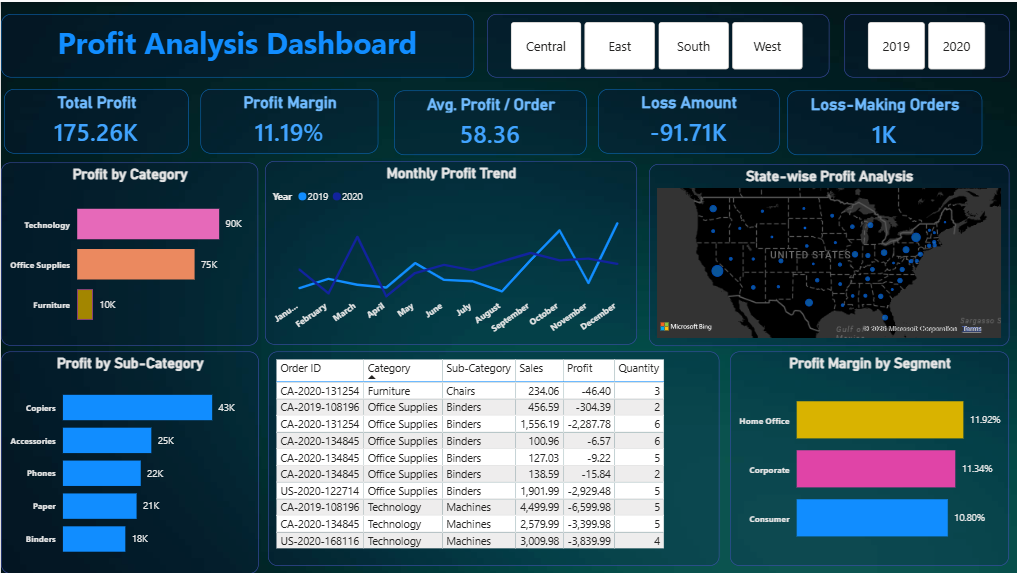

Layout of this report page (visuals, bound fields, positions):
{"tool":"powerbi","page":{"name":"Page 2","canvas":[1280,720],"ordinal":1},"visuals":[{"type":"barChart","fields":{"Y":["Sum(SuperStore_Sales_Dataset.Profit)"],"Category":["SuperStore_Sales_Dataset.Category"]},"box":[0,202.1,324.2,230.5],"z":0},{"type":"barChart","fields":{"Y":["Sum(SuperStore_Sales_Dataset.Profit)"],"Category":["SuperStore_Sales_Dataset.Sub-Category"]},"box":[0,440.6,324.5,279.9],"z":1000},{"type":"barChart","fields":{"Y":["SuperStore_Sales_Dataset.New_ProfitMargin"],"Category":["SuperStore_Sales_Dataset.Segment"]},"box":[918.4,440.3,351.5,270.2],"z":2000},{"type":"lineChart","title":"Monthly Profit Trend","fields":{"Category":["SuperStore_Sales_Dataset.Order Date.Variation.Date Hierarchy.Month"],"Y":["SuperStore_Sales_Dataset.Total_Profit"],"Series":["SuperStore_Sales_Dataset.Order Date.Variation.Date Hierarchy.Year"]},"box":[332.6,201.1,468.4,231.6],"z":3000},{"type":"cardVisual","title":"Loss Amount","fields":{"Data":["SuperStore_Sales_Dataset.Loss Amount"]},"box":[751.4,110,228.6,81.4],"z":4000},{"type":"cardVisual","title":"Loss-Making Orders","fields":{"Data":["SuperStore_Sales_Dataset.Loss_making_orders"]},"box":[990,111.4,245.7,81.4],"z":5000},{"type":"tableEx","title":"Loss-Making Orders","fields":{"Values":["SuperStore_Sales_Dataset.Order ID","SuperStore_Sales_Dataset.Category","SuperStore_Sales_Dataset.Sub-Category","SuperStore_Sales_Dataset.Sales","SuperStore_Sales_Dataset.Profit","SuperStore_Sales_Dataset.Quantity"]},"box":[336.4,440.3,568.8,270.2],"z":6000},{"type":"cardVisual","title":"Profit Margin","fields":{"Data":["SuperStore_Sales_Dataset.ProfitMargin"]},"box":[251.4,110,224.3,81.4],"z":7000},{"type":"cardVisual","title":"Total Profit","fields":{"Data":["SuperStore_Sales_Dataset.Total_Profit"]},"box":[4.3,110,232.9,81.4],"z":8000},{"type":"cardVisual","title":"Avg. Profit / Order","fields":{"Data":["SuperStore_Sales_Dataset.Average_Profit_per_order"]},"box":[494.3,111.4,242.9,81.4],"z":9000},{"type":"advancedSlicerVisual","fields":{"Values":["SuperStore_Sales_Dataset.Region"]},"box":[611.4,14.3,431.4,80],"z":10000},{"type":"advancedSlicerVisual","fields":{"Values":["SuperStore_Sales_Dataset.Order Date.Variation.Date Hierarchy.Year"]},"box":[1061.4,14.3,208.6,80],"z":11000},{"type":"textbox","box":[0,14.3,595.7,80],"z":12000},{"type":"map","title":"State-wise Profit Analysis","fields":{"Category":["SuperStore_Sales_Dataset.State"],"Size":["SuperStore_Sales_Dataset.Total Sales"]},"box":[816.8,203.2,453.7,229.5],"z":13000}]}

Visuals, with their boxes in screenshot pixels (x1, y1, x2, y2), scaled from the page's 1280x720 canvas onto the 1017x573 screenshot:
barChart - Sum(SuperStore_Sales_Dataset.Profit) x SuperStore_Sales_Dataset.Category: <bbox>0, 161, 258, 344</bbox>
barChart - Sum(SuperStore_Sales_Dataset.Profit) x SuperStore_Sales_Dataset.Sub-Category: <bbox>0, 351, 258, 572</bbox>
barChart - SuperStore_Sales_Dataset.New_ProfitMargin x SuperStore_Sales_Dataset.Segment: <bbox>730, 350, 1009, 565</bbox>
"Monthly Profit Trend" lineChart: <bbox>264, 160, 636, 344</bbox>
"Loss Amount" cardVisual: <bbox>597, 88, 779, 152</bbox>
"Loss-Making Orders" cardVisual: <bbox>787, 89, 982, 153</bbox>
"Loss-Making Orders" tableEx: <bbox>267, 350, 719, 565</bbox>
"Profit Margin" cardVisual: <bbox>200, 88, 378, 152</bbox>
"Total Profit" cardVisual: <bbox>3, 88, 188, 152</bbox>
"Avg. Profit / Order" cardVisual: <bbox>393, 89, 586, 153</bbox>
advancedSlicerVisual - SuperStore_Sales_Dataset.Region: <bbox>486, 11, 829, 75</bbox>
advancedSlicerVisual - SuperStore_Sales_Dataset.Order Date.Variation.Date Hierarchy.Year: <bbox>843, 11, 1009, 75</bbox>
textbox: <bbox>0, 11, 473, 75</bbox>
"State-wise Profit Analysis" map: <bbox>649, 162, 1009, 344</bbox>
